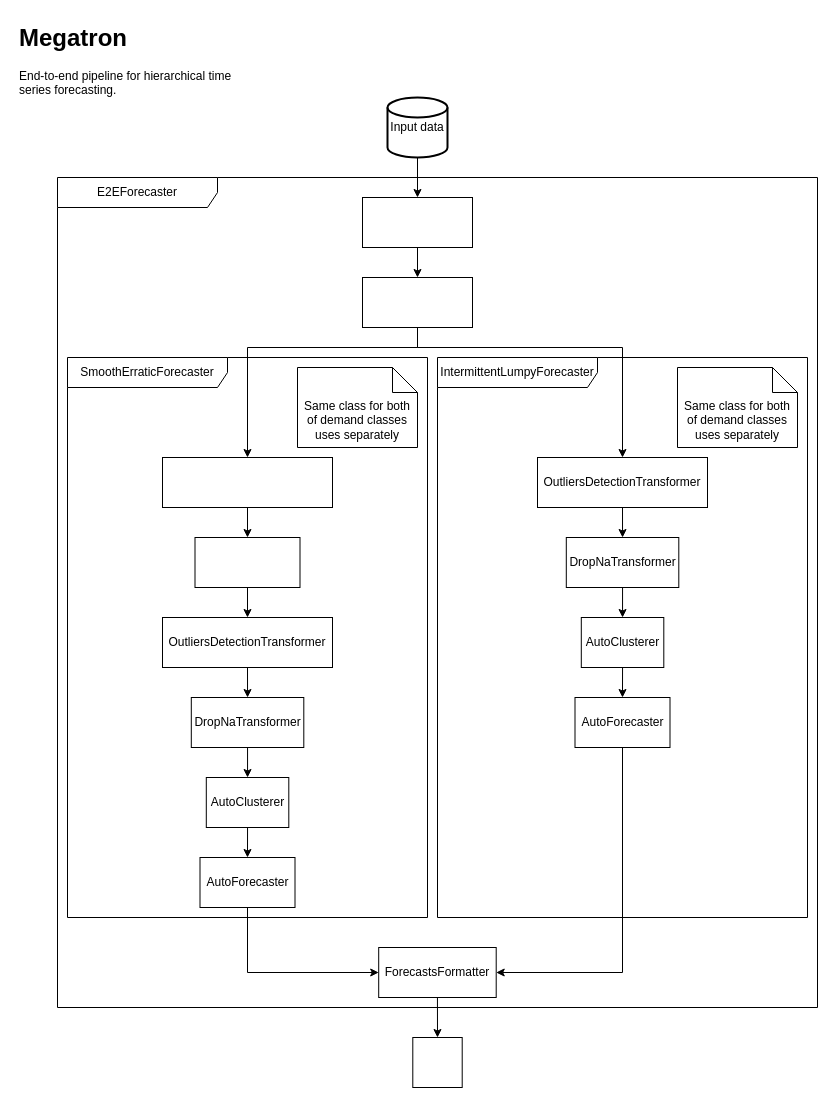
Some shapes in this 835 by 1105 pixel diagram are drawn without their labels. The shapes that lost their labels are listed below. From the top down, each one's centre as x and y in pixels, then its label:
At [417,222]: "ADICVTransformer".
At [417,302]: "DemandRouter".
At [247,482]: "PlateauDetectionTransformer".
At [247,562]: "CPDTransformer".
At [437,1062]: "Output".
